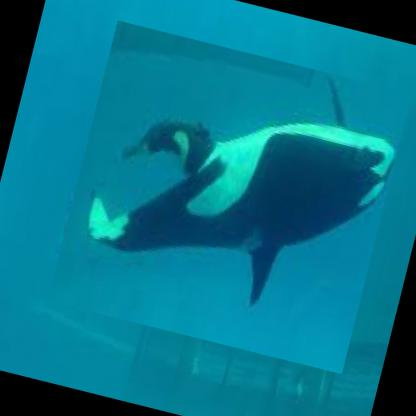killer_whale: (47, 20, 412, 374)
